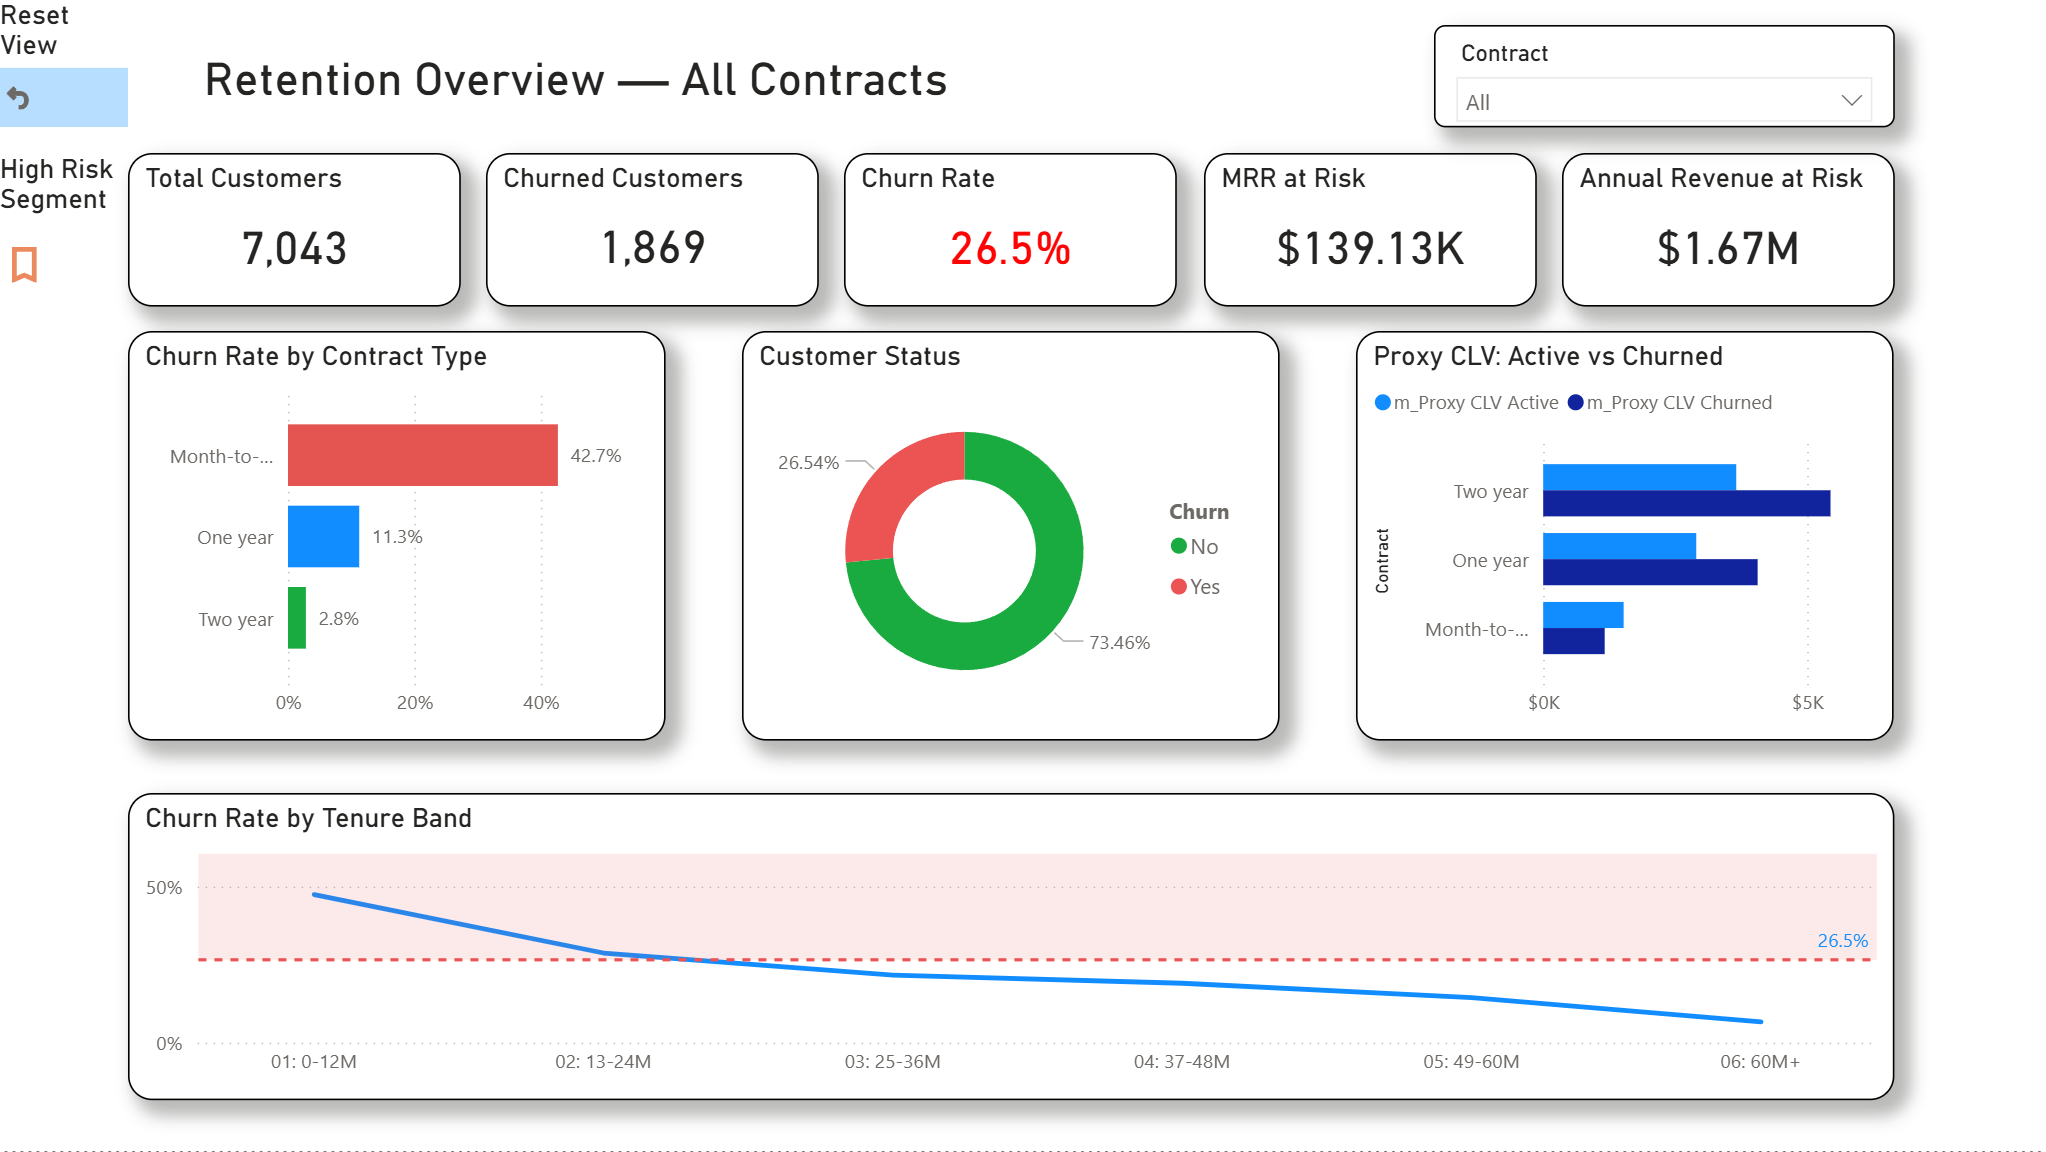

This screenshot's page, from the dashboard's own definition file:
{"tool":"powerbi","page":{"name":"Retention Overview","canvas":[1280,720],"ordinal":0},"visuals":[{"type":"card","title":"Total Customers","fields":{"Values":["_Measures.m_Total Customers"]},"box":[80,96,208,96],"z":0},{"type":"card","title":"Churned Customers","fields":{"Values":["_Measures.m_Churned Customers"]},"box":[304,96,208,96],"z":1000},{"type":"card","title":"Churn Rate","fields":{"Values":["_Measures.m_Churn Rate"]},"box":[528,96,208,96],"z":2000},{"type":"card","title":"MRR at Risk","fields":{"Values":["_Measures.m_MRR at Risk"]},"box":[752,96,208,96],"z":3000},{"type":"card","title":"Annual Revenue at Risk","fields":{"Values":["_Measures.m_Annual Revenue at Risk"]},"box":[976,96,208,96],"z":4000},{"type":"card","fields":{"Values":["_Measures.m_Page Title P2"]},"box":[80,0,560,96],"z":5000},{"type":"clusteredBarChart","title":"Churn Rate by Contract Type","fields":{"Y":["_Measures.m_Churn Rate"],"Category":["dimContract.Contract"]},"box":[80,208,336,256],"z":6000},{"type":"donutChart","title":"Customer Status","fields":{"Category":["factSubscription.Churn"],"Y":["_Measures.m_Total Customers"]},"box":[464,208,336,256],"z":7000},{"type":"lineChart","title":"Churn Rate by Tenure Band","fields":{"Category":["dimTenureBand.TenureBand"],"Y":["_Measures.m_Churn Rate"]},"box":[80,496,1104,192],"z":8000},{"type":"clusteredBarChart","title":"Proxy CLV: Active vs Churned","fields":{"Category":["dimContract.Contract"],"Y":["_Measures.m_Proxy CLV Active","_Measures.m_Proxy CLV Churned"]},"box":[848,208,336,256],"z":9000},{"type":"slicer","fields":{"Values":["dimContract.Contract"]},"box":[896,16,288,64],"z":10000},{"type":"actionButton","title":"Reset View","box":[0,0,80,80],"z":10001},{"type":"actionButton","title":"High Risk Segment","box":[0,96,80,96],"z":10002}]}

Visuals, with their boxes in screenshot pixels (x1, y1, x2, y2), scaled from the page's 1280x720 canvas onto the 2046x1152 screenshot:
"Total Customers" card: x1=128, y1=154, x2=460, y2=307
"Churned Customers" card: x1=486, y1=154, x2=818, y2=307
"Churn Rate" card: x1=844, y1=154, x2=1176, y2=307
"MRR at Risk" card: x1=1202, y1=154, x2=1534, y2=307
"Annual Revenue at Risk" card: x1=1560, y1=154, x2=1893, y2=307
card - _Measures.m_Page Title P2: x1=128, y1=0, x2=1023, y2=154
"Churn Rate by Contract Type" clusteredBarChart: x1=128, y1=333, x2=665, y2=742
"Customer Status" donutChart: x1=742, y1=333, x2=1279, y2=742
"Churn Rate by Tenure Band" lineChart: x1=128, y1=794, x2=1893, y2=1101
"Proxy CLV: Active vs Churned" clusteredBarChart: x1=1355, y1=333, x2=1893, y2=742
slicer - dimContract.Contract: x1=1432, y1=26, x2=1893, y2=128
"Reset View" actionButton: x1=0, y1=0, x2=128, y2=128
"High Risk Segment" actionButton: x1=0, y1=154, x2=128, y2=307
